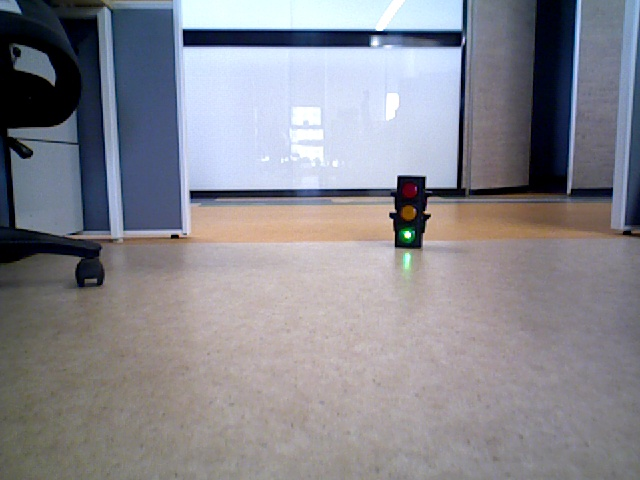green: (397, 180, 421, 246)
